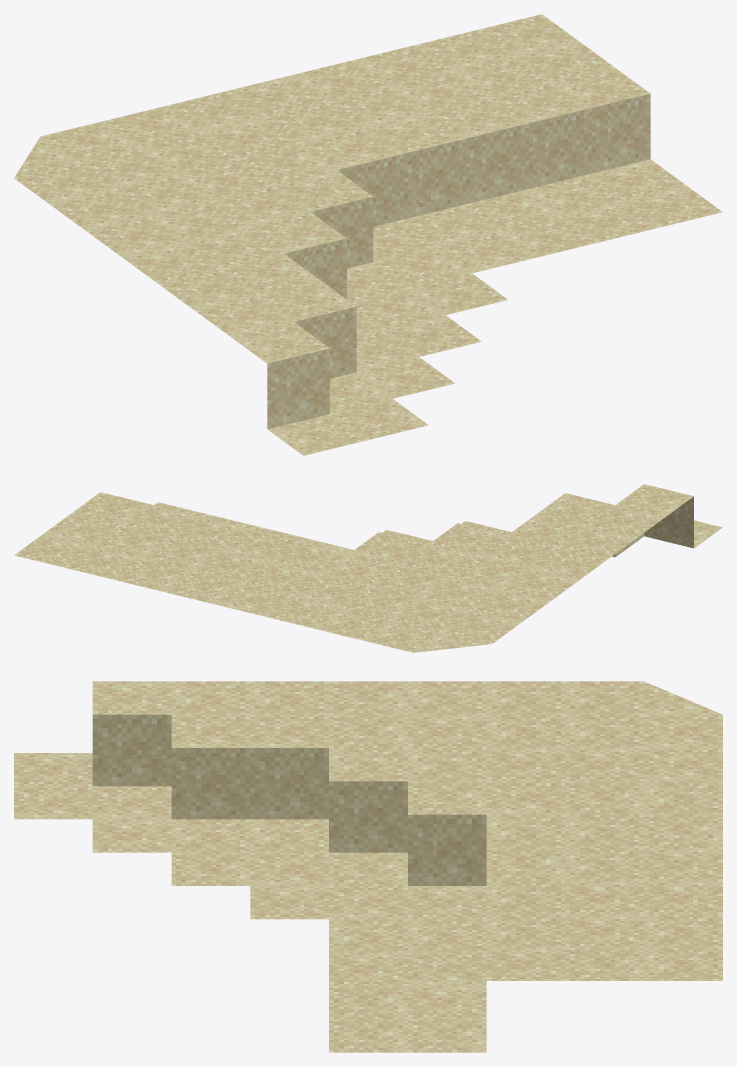
File: Sand_Chunk_58_9.fbx
The picture shows the model from 3 angles, top to bottom: view 1: azimuth 30°, elevation 25°; view 2: azimuth 150°, elevation 25°; view 3: azimuth 270°, elevation 25°; orthographic projection. The views are drawn at different scales.
Parts seen in each view (by area): view 1: Sand_Chunk_58_9; view 2: Sand_Chunk_58_9; view 3: Sand_Chunk_58_9.
Boxes of the visible parts, left/top/right/bottom form: Sand_Chunk_58_9: left=14, top=14, right=722, bottom=455; Sand_Chunk_58_9: left=14, top=484, right=722, bottom=652; Sand_Chunk_58_9: left=14, top=681, right=722, bottom=1052.
Size of the model in its own units: 900 by 100 by 900.
1 material, 1 textured.
